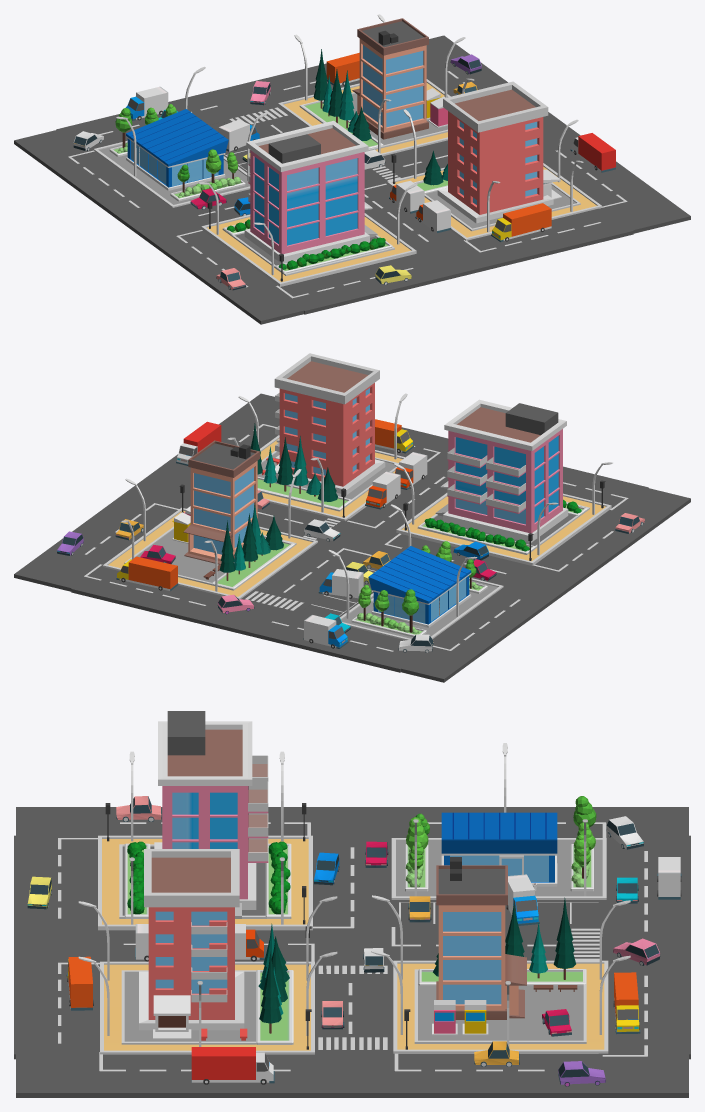
File: city3.obj
3 views of the same model, one above another, from view 1: azimuth 30°, elevation 25°; view 2: azimuth 150°, elevation 25°; view 3: azimuth 270°, elevation 25° (orthographic). The views are drawn at different scales.
Visible parts, largest first — view 1: ROAD_Lines_12_Mesh.098, House_Mesh.025, House_2_Mesh.002, House_3_Mesh.056, Shop_Mesh.057, Floor_Mesh.035, Floor_2_Mesh.044, Floor_3_Mesh.069, Floor_4_4_Mesh.090, Car_08_3_Mesh.013, Car_08_4_Mesh.012, Bushes_3_Mesh.033 (+8 smaller); view 2: ROAD_Lines_12_Mesh.098, House_Mesh.025, House_2_Mesh.002, House_3_Mesh.056, Shop_Mesh.057, Floor_3_Mesh.069, Floor_Mesh.035, Floor_2_Mesh.044, Floor_4_4_Mesh.090, Car_08_5_Mesh.021, Car_08_1_Mesh.019, Cube_7_Mesh.050 (+11 smaller); view 3: ROAD_Lines_12_Mesh.098, House_2_Mesh.002, House_Mesh.025, House_3_Mesh.056, Floor_3_Mesh.069, Floor_2_Mesh.044, Shop_Mesh.057, Floor_Mesh.035, Floor_4_4_Mesh.090, Car_08_4_Mesh.012, Floor_4_5_Mesh.091, Cube_7_Mesh.050 (+26 smaller).
Part boxes in pixels (x1,y1,x2,y2): ROAD_Lines_12_Mesh.098: (14, 35, 690, 324); House_Mesh.025: (244, 120, 377, 263); House_2_Mesh.002: (437, 81, 561, 223); House_3_Mesh.056: (352, 18, 428, 139); Shop_Mesh.057: (126, 109, 228, 190); Floor_Mesh.035: (201, 213, 416, 286); Floor_2_Mesh.044: (387, 163, 602, 240); Floor_3_Mesh.069: (278, 79, 450, 155); Floor_4_4_Mesh.090: (93, 140, 250, 207); Car_08_3_Mesh.013: (491, 203, 551, 241); Car_08_4_Mesh.012: (570, 133, 615, 172); Bushes_3_Mesh.033: (278, 237, 385, 269); ROAD_Lines_12_Mesh.098: (14, 393, 690, 682); House_Mesh.025: (435, 399, 568, 542); House_2_Mesh.002: (274, 353, 385, 495); House_3_Mesh.056: (183, 440, 259, 564); Shop_Mesh.057: (368, 546, 471, 627); Floor_3_Mesh.069: (102, 507, 317, 599); Floor_Mesh.035: (396, 493, 611, 565); Floor_2_Mesh.044: (257, 435, 404, 520); Floor_4_4_Mesh.090: (340, 577, 503, 640); Car_08_5_Mesh.021: (116, 556, 178, 590); Car_08_1_Mesh.019: (303, 615, 348, 648); Cube_7_Mesh.050: (257, 476, 352, 511); ROAD_Lines_12_Mesh.098: (14, 807, 690, 1097); House_2_Mesh.002: (139, 849, 244, 1039); House_Mesh.025: (154, 711, 268, 918); House_3_Mesh.056: (436, 857, 526, 1019); Floor_3_Mesh.069: (393, 960, 608, 1053); Floor_2_Mesh.044: (100, 961, 314, 1054); Shop_Mesh.057: (441, 812, 557, 886); Floor_Mesh.035: (98, 835, 312, 930); Floor_4_4_Mesh.090: (391, 838, 606, 899); Car_08_4_Mesh.012: (191, 1047, 274, 1084); Floor_4_5_Mesh.091: (398, 900, 598, 923); Cube_7_Mesh.050: (256, 970, 293, 1044).
Bounding box in the file's own units: 54.8 × 13.76 × 54.8.
Materials: 1 (1 with a texture image).
